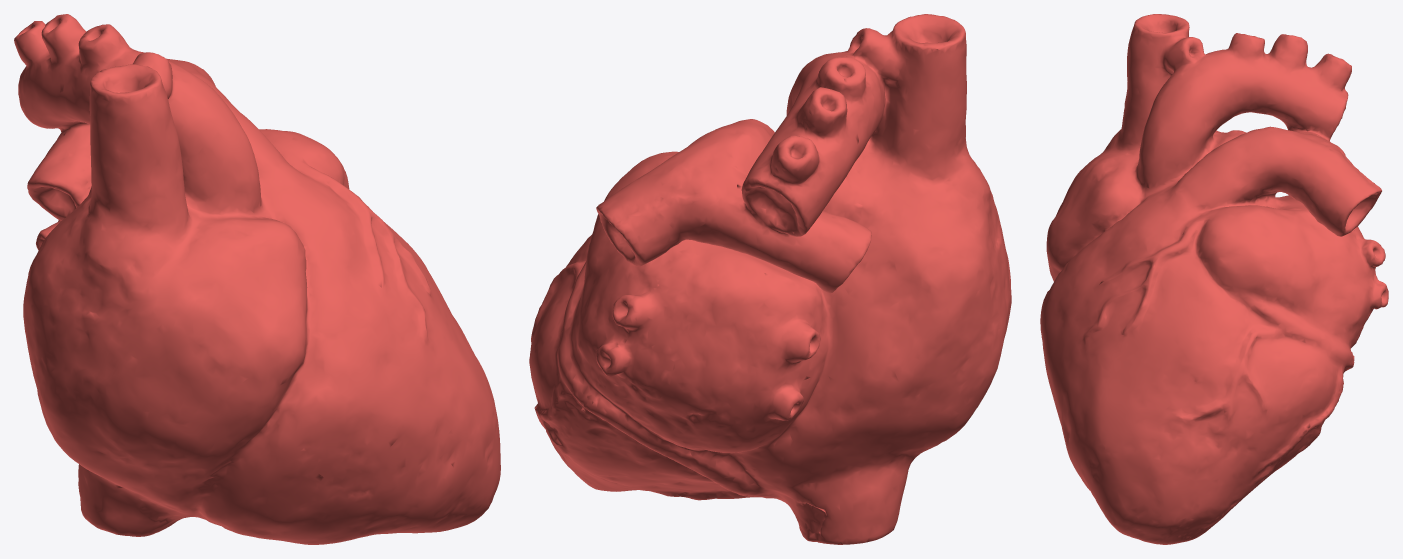
The model's file is heart.glb.
3 views of the same model, side by side, from view 1: azimuth 30°, elevation 25°; view 2: azimuth 150°, elevation 25°; view 3: azimuth 270°, elevation 25° (orthographic). The views are drawn at different scales.
Parts seen in each view (by area): view 1: Polygonal_Model_1 raw_mesh; view 2: Polygonal_Model_1 raw_mesh; view 3: Polygonal_Model_1 raw_mesh.
Part boxes in pixels (<box>): Polygonal_Model_1 raw_mesh: <box>14,14,500,544</box>; Polygonal_Model_1 raw_mesh: <box>529,14,1011,544</box>; Polygonal_Model_1 raw_mesh: <box>1040,14,1388,544</box>.
Bounding box in the file's own units: 4.05 × 4.61 × 3.62.
